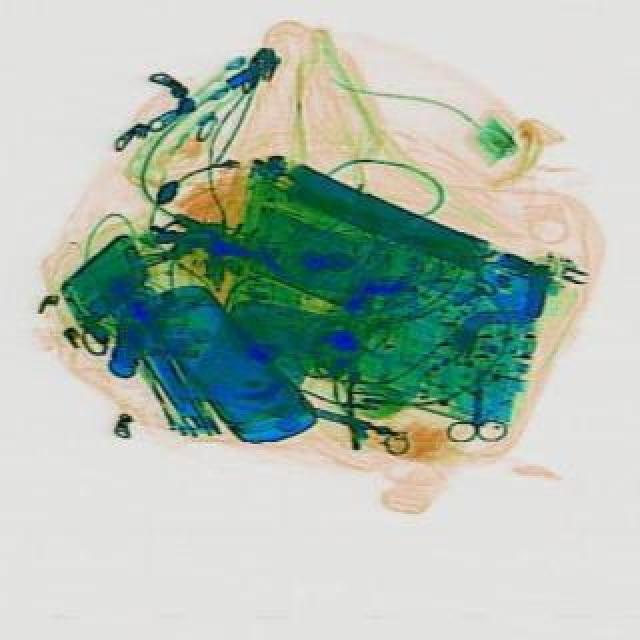pliers: (450, 374, 512, 442)
